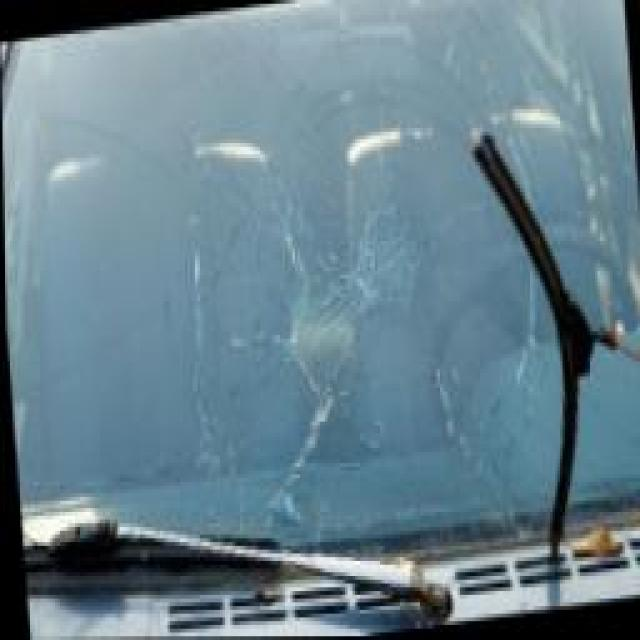Windshield: (0, 0, 640, 636)
